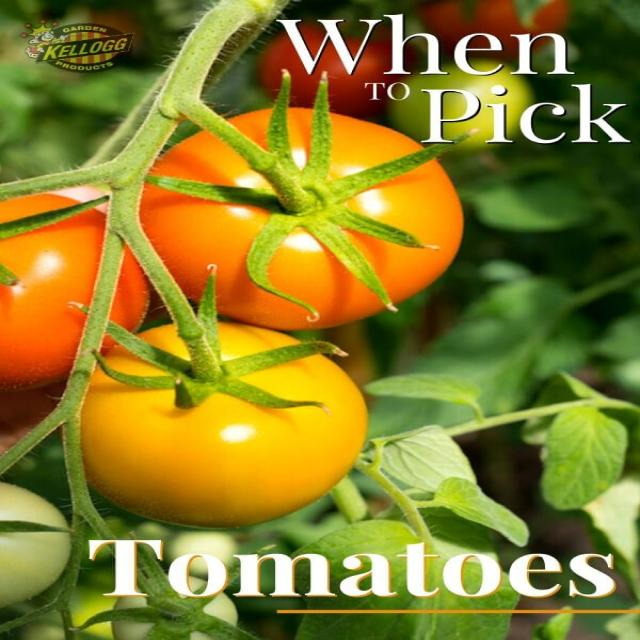level 2: (0, 476, 73, 603)
level 4: (140, 105, 472, 329), (69, 323, 369, 526)
level 5: (0, 189, 150, 403)
level 6: (277, 29, 408, 116)
